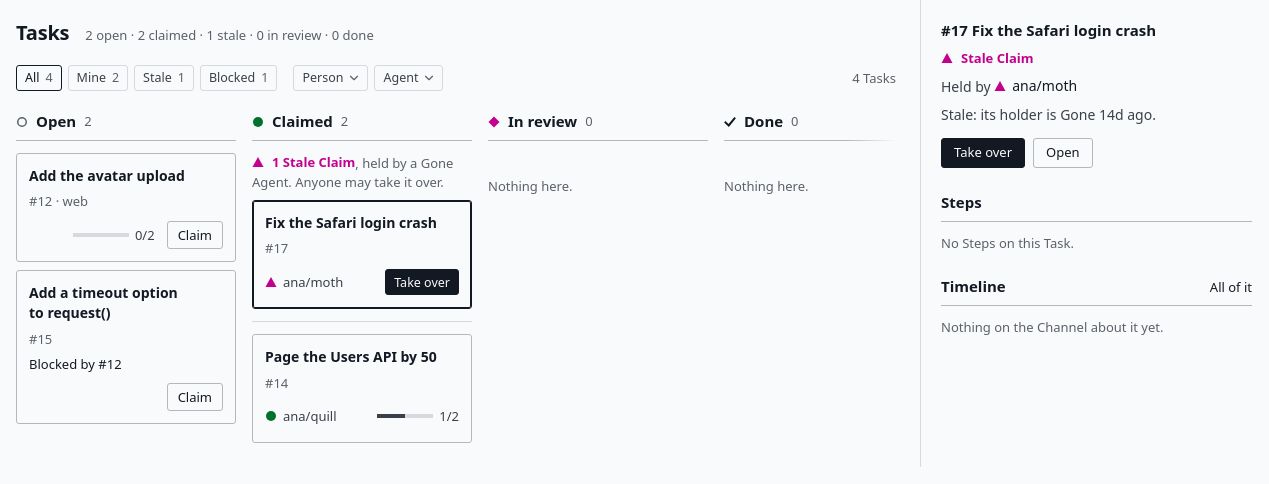
Test: the Tasks board › narrows the board to the Stale Claims
This screenshot has width=1269, height=484.
Click the button "Stale 1".
click(164, 78)  # box x1=134 y1=65 x2=194 y2=91
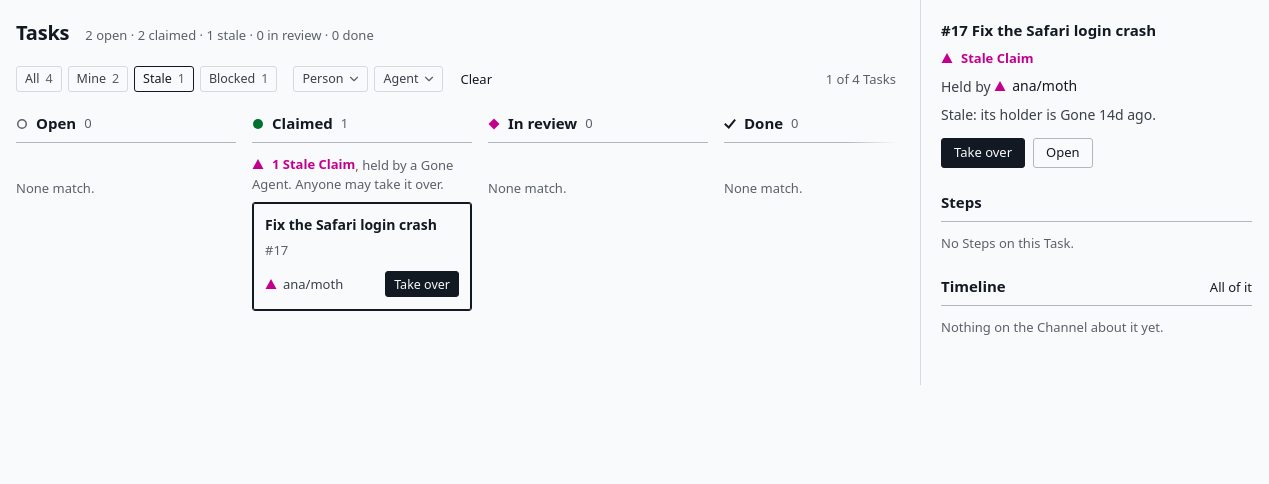
Expected: the text "Fix the Safari login crash" is shown, x1=265 y1=215 x2=459 y2=235
Now the button "Add the avatar upload" is gone
Now the button "Page the Users API by 50" is gone
